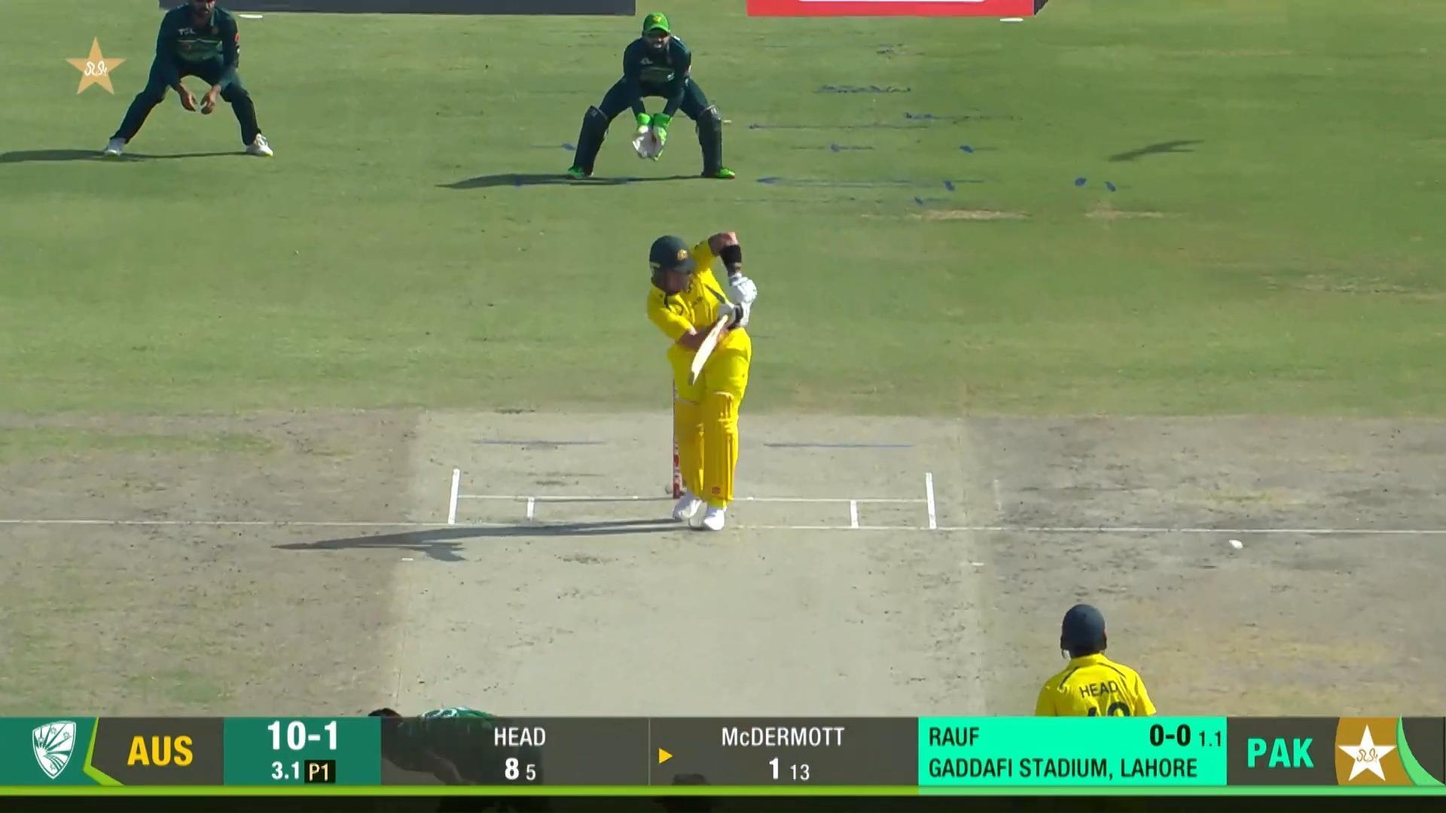BM 1: (645, 229, 759, 533)
BO: (362, 701, 557, 813)
